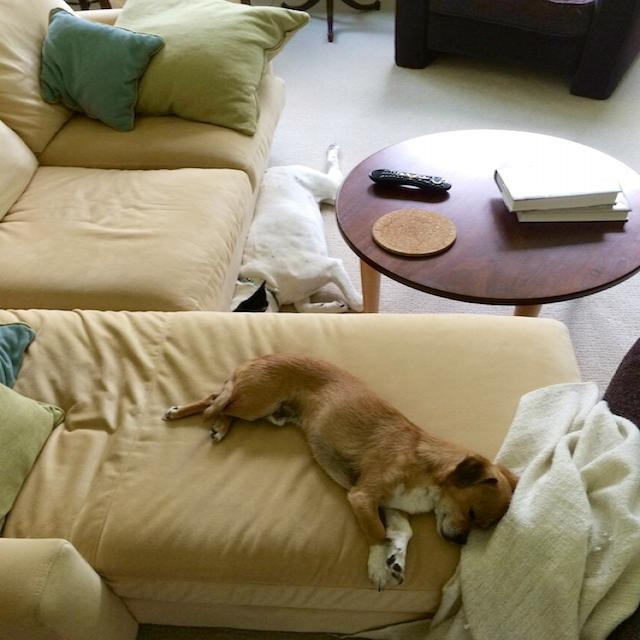laying down: (161, 351, 516, 588), (229, 142, 373, 319)
